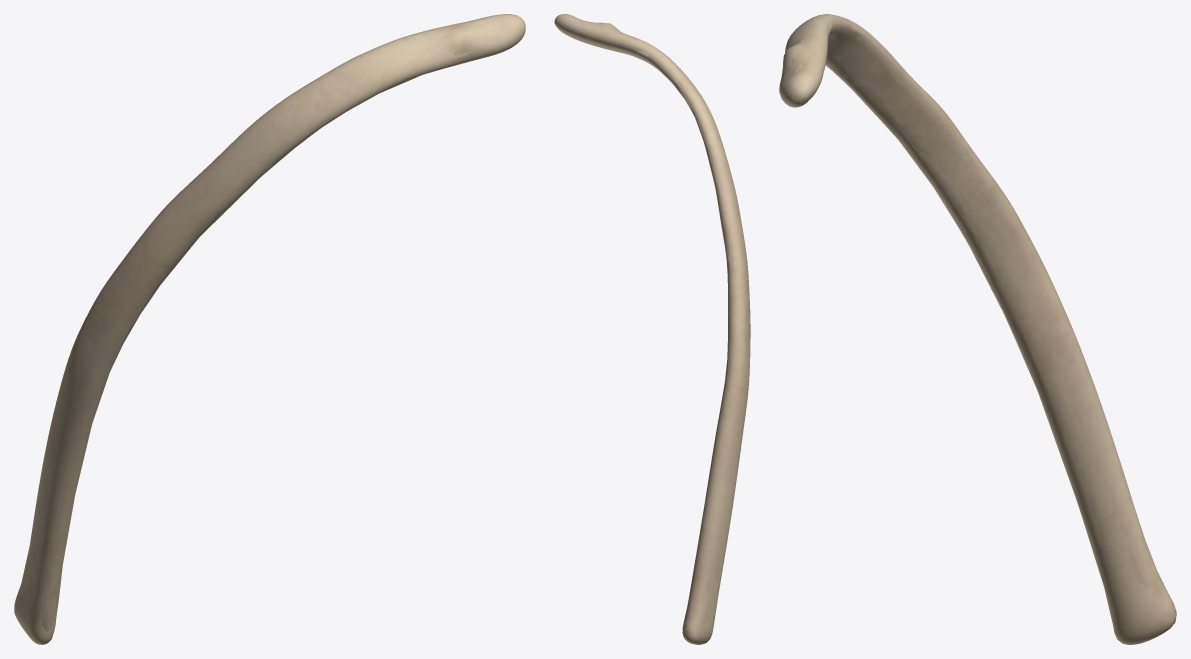
The model's file is Rib R07.fbx.
The picture shows the model from 3 angles, left to right: view 1: azimuth 30°, elevation 25°; view 2: azimuth 150°, elevation 25°; view 3: azimuth 270°, elevation 25°; orthographic projection. The views are drawn at different scales.
Parts seen in each view (by area): view 1: Rib R07 high, Rib R07, Rib R07 low; view 2: Rib R07 high, Rib R07, Rib R07 low; view 3: Rib R07 low, Rib R07, Rib R07 high.
Part boxes in pixels (bbox=[...]): Rib R07 high: bbox=[14, 14, 525, 643]; Rib R07: bbox=[14, 14, 525, 644]; Rib R07 low: bbox=[21, 20, 503, 631]; Rib R07 high: bbox=[555, 15, 750, 644]; Rib R07: bbox=[554, 14, 749, 644]; Rib R07 low: bbox=[577, 18, 731, 619]; Rib R07 low: bbox=[782, 21, 1167, 622]; Rib R07: bbox=[779, 14, 1176, 644]; Rib R07 high: bbox=[779, 14, 1174, 644].
Bounding box in the file's own units: 14.29 × 25.15 × 12.07.
1 material, 1 textured.
